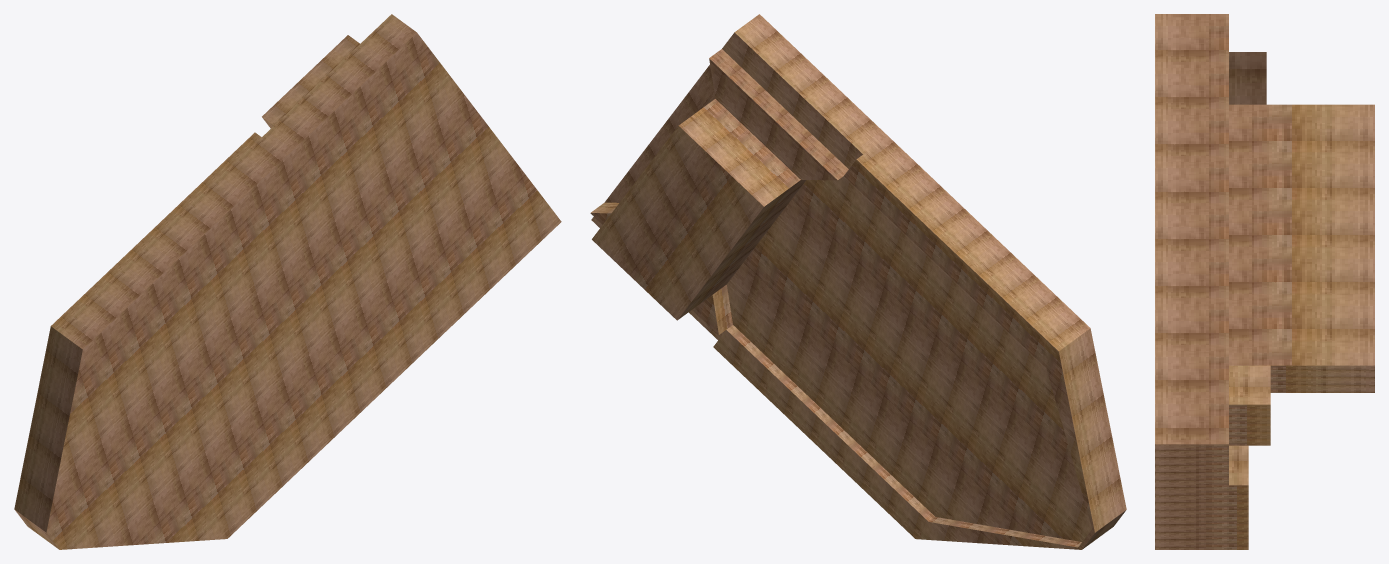
Rendered from Boat.dae.
3 renders of one model, left to right at view 1: azimuth 30°, elevation 25°; view 2: azimuth 150°, elevation 25°; view 3: azimuth 270°, elevation 25°, orthographic. The views are drawn at different scales.
Visible parts, largest first — view 1: Cube; view 2: Cube; view 3: Cube.
Part boxes in pixels (x1,y1,x2,y2): Cube: (14, 14, 561, 549); Cube: (590, 14, 1126, 549); Cube: (1155, 14, 1374, 549).
Bounding box in the file's own units: 84.23 × 21.34 × 71.9.
1 material, 1 textured.
